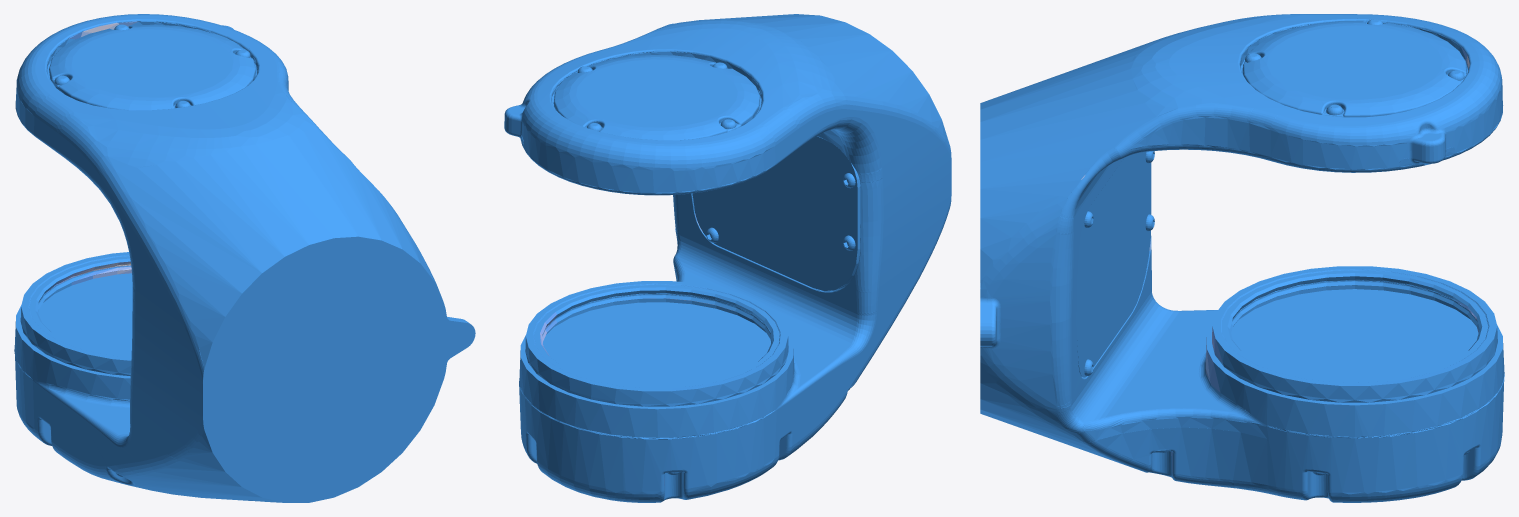
File: YaskawaGP4Link1.dae
3 views of the same model, side by side, from view 1: azimuth 30°, elevation 25°; view 2: azimuth 150°, elevation 25°; view 3: azimuth 270°, elevation 25° (orthographic). The views are drawn at different scales.
Visible parts, largest first — view 1: YaskawaGP4Link1; view 2: YaskawaGP4Link1; view 3: YaskawaGP4Link1.
Boxes of the visible parts, x1,y1,x2,y2 form: YaskawaGP4Link1: (14, 14, 475, 502); YaskawaGP4Link1: (504, 14, 951, 502); YaskawaGP4Link1: (980, 14, 1504, 502).
Bounding box in the file's own units: 0.1504 × 0.231 × 0.19.
